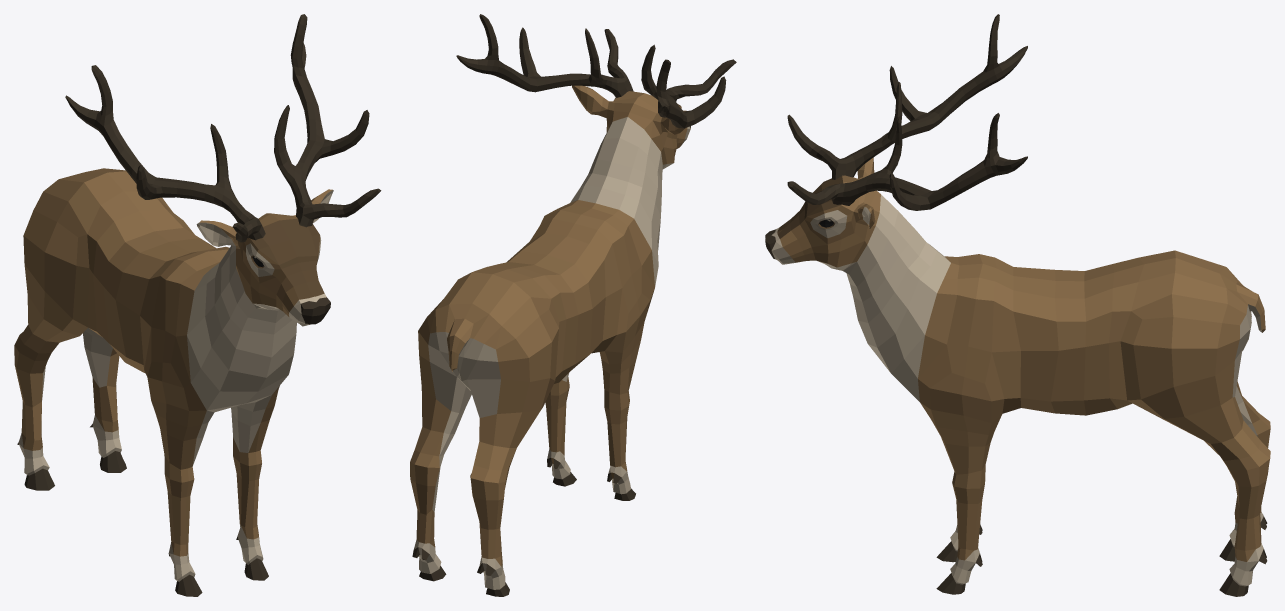
Rendered from stag.glb.
3 views of the same model, side by side, from view 1: azimuth 30°, elevation 25°; view 2: azimuth 150°, elevation 25°; view 3: azimuth 270°, elevation 25° (orthographic). The views are drawn at different scales.
Parts seen in each view (by area): view 1: Stag, Stag_Horns; view 2: Stag, Stag_Horns; view 3: Stag, Stag_Horns.
Part boxes in pixels (x1=…): Stag: x1=14, y1=168, x2=333, y2=596; Stag_Horns: x1=65, y1=14, x2=381, y2=242; Stag: x1=410, y1=85, x2=690, y2=596; Stag_Horns: x1=456, y1=14, x2=736, y2=128; Stag: x1=765, y1=157, x2=1270, y2=596; Stag_Horns: x1=787, y1=14, x2=1027, y2=210.
Size of the model in its own units: 2.54 by 5.38 by 4.84.
